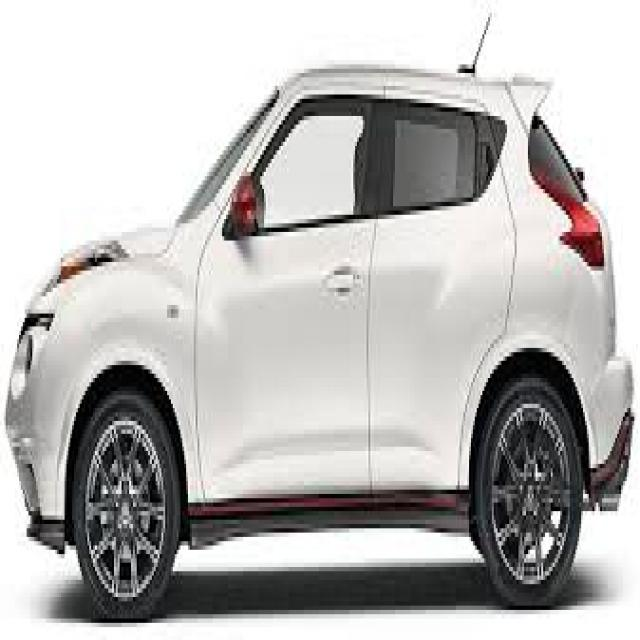Car: (4, 61, 636, 623)
